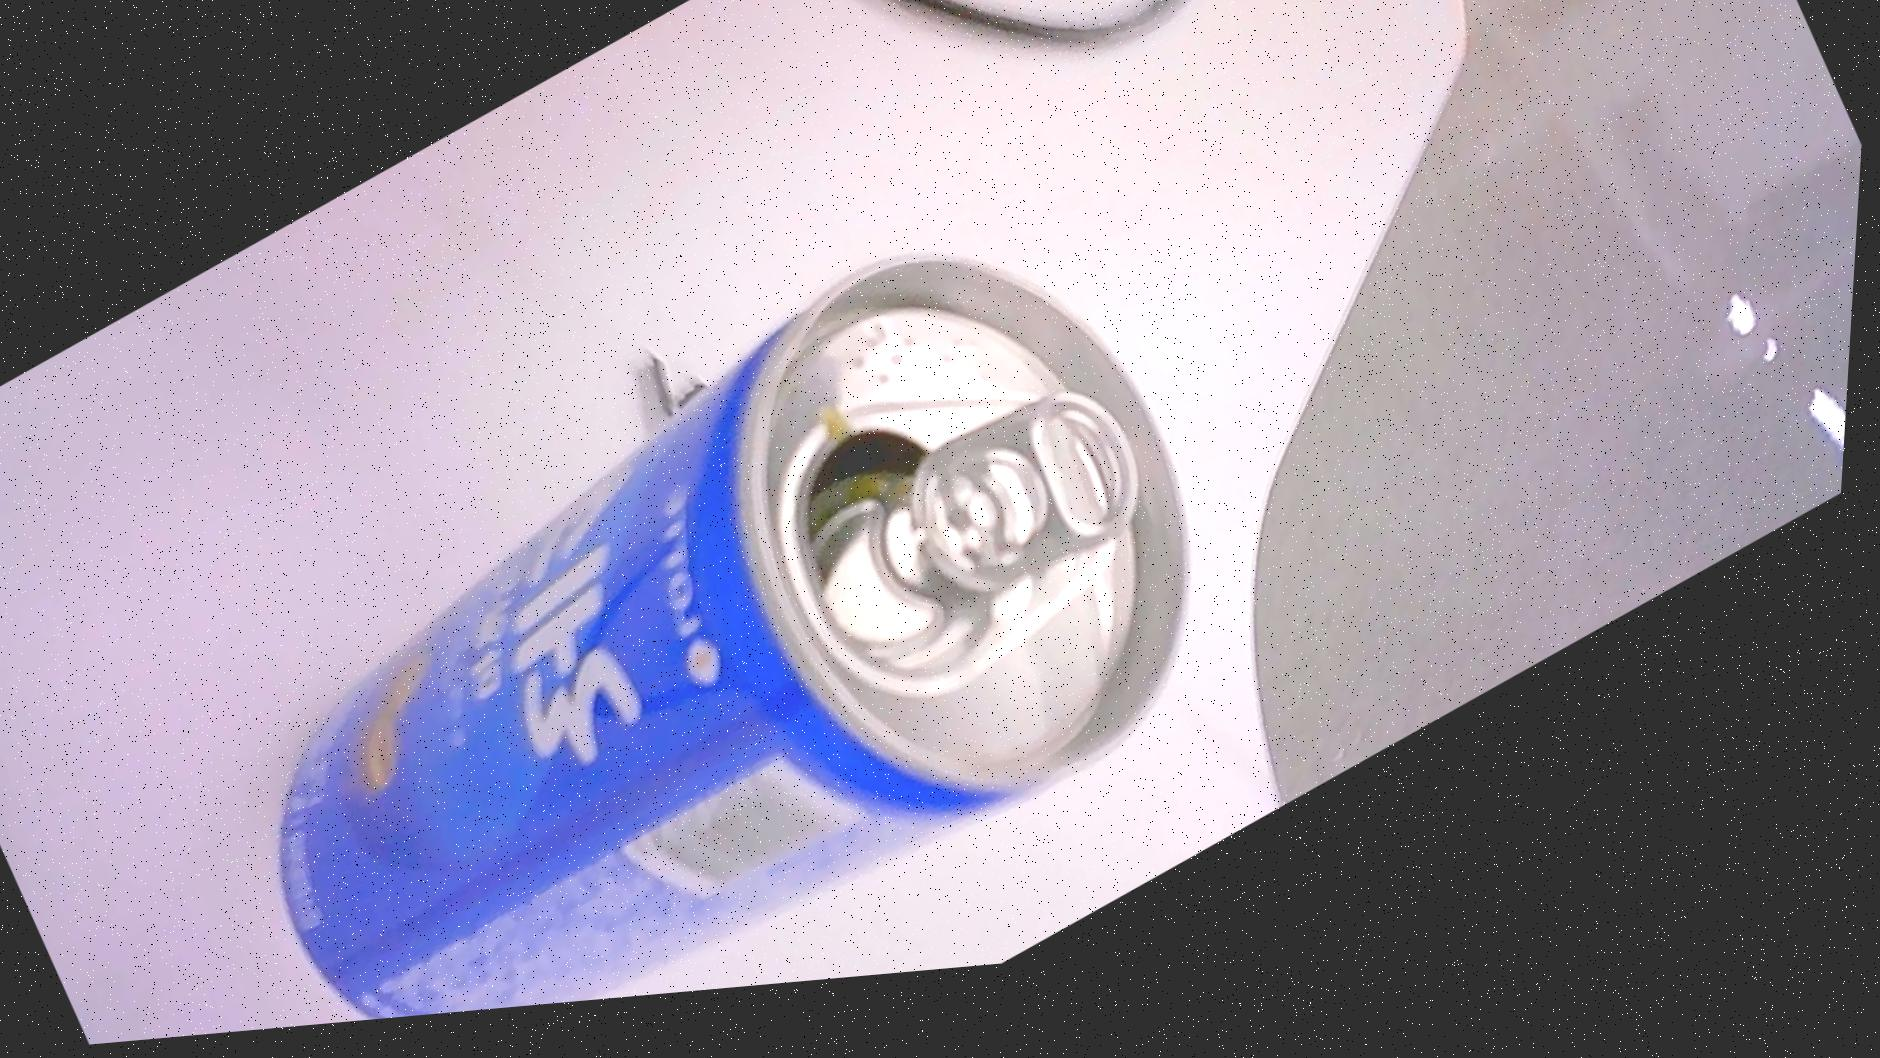letsbe: (159, 161, 1307, 1044)
